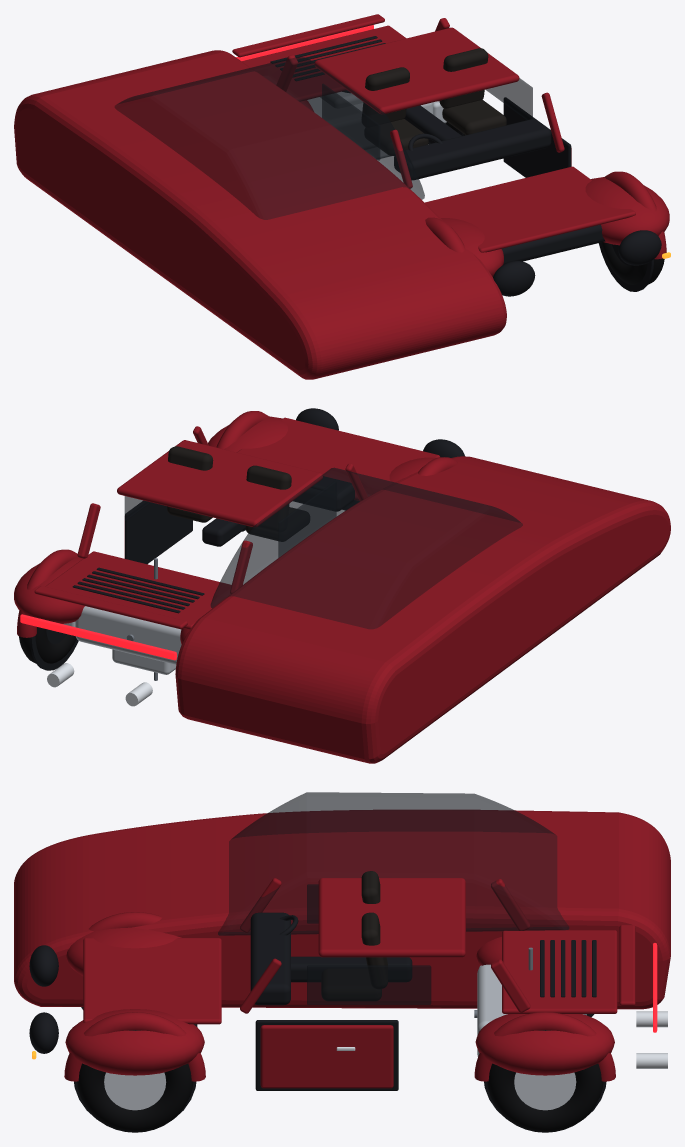
Rendered from car.glb.
The picture shows the model from 3 angles, top to bottom: view 1: azimuth 30°, elevation 25°; view 2: azimuth 150°, elevation 25°; view 3: azimuth 270°, elevation 25°; orthographic projection. The views are drawn at different scales.
Parts seen in each view (by area): view 1: BodyShell, Greenhouse, FrunkLid, RoofPanel, object 32, Fender (×2), Decklid, WindowL, DoorR_Pivot, object 19, WheelArch (×2), Wheel (+12 smaller); view 2: BodyShell, Greenhouse, RoofPanel, FrunkLid, Decklid, Fender (×3), Crankcase, DoorR_Pivot, Decklid_Pivot, WindowL, WheelArch (×2), Wheel (+11 smaller); view 3: BodyShell, Greenhouse, Fender (×4), Wheel (×2), RoofPanel, FrunkLid, DoorR, Decklid, WheelArch (×3), WindowR, object 32, DoorR_Pivot (+14 smaller).
Part boxes in pixels (x1=…): BodyShell: x1=14, y1=50, x2=506, y2=379; Greenhouse: x1=115, y1=57, x2=424, y2=219; FrunkLid: x1=425, y1=166, x2=635, y2=252; RoofPanel: x1=314, y1=27, x2=519, y2=114; object 32: x1=394, y1=119, x2=551, y2=179; Fender (×2): x1=441, y1=177, x2=669, y2=276; Decklid: x1=242, y1=25, x2=406, y2=101; WindowL: x1=322, y1=84, x2=379, y2=160; DoorR_Pivot: x1=503, y1=97, x2=571, y2=177; object 19: x1=502, y1=224, x2=605, y2=264; WheelArch (×2): x1=425, y1=171, x2=666, y2=259; Wheel: x1=598, y1=242, x2=664, y2=291; BodyShell: x1=175, y1=456, x2=670, y2=763; Greenhouse: x1=210, y1=467, x2=522, y2=628; RoofPanel: x1=117, y1=440, x2=322, y2=527; FrunkLid: x1=237, y1=417, x2=439, y2=500; Decklid: x1=45, y1=551, x2=231, y2=629; Fender (×3): x1=14, y1=416, x2=437, y2=623; Crankcase: x1=75, y1=606, x2=181, y2=664; DoorR_Pivot: x1=125, y1=501, x2=192, y2=564; Decklid_Pivot: x1=72, y1=567, x2=204, y2=613; WindowL: x1=278, y1=481, x2=336, y2=557; WheelArch (×2): x1=17, y1=411, x2=268, y2=637; Wheel: x1=19, y1=627, x2=78, y2=670; BodyShell: x1=14, y1=810, x2=670, y2=1009; Greenhouse: x1=218, y1=792, x2=569, y2=935; Fender (×4): x1=65, y1=927, x2=614, y2=1075; Wheel (×2): x1=74, y1=1030, x2=606, y2=1132; RoofPanel: x1=318, y1=878, x2=465, y2=957; FrunkLid: x1=83, y1=938, x2=221, y2=1024; DoorR: x1=260, y1=1025, x2=393, y2=1088; Decklid: x1=502, y1=930, x2=617, y2=1013; WheelArch (×3): x1=64, y1=912, x2=615, y2=1081; WindowR: x1=307, y1=965, x2=431, y2=1004; object 32: x1=250, y1=912, x2=290, y2=1005; DoorR_Pivot: x1=255, y1=1020, x2=398, y2=1090.
Size of the model in its own units: 3.51 by 1.4 by 4.55.
